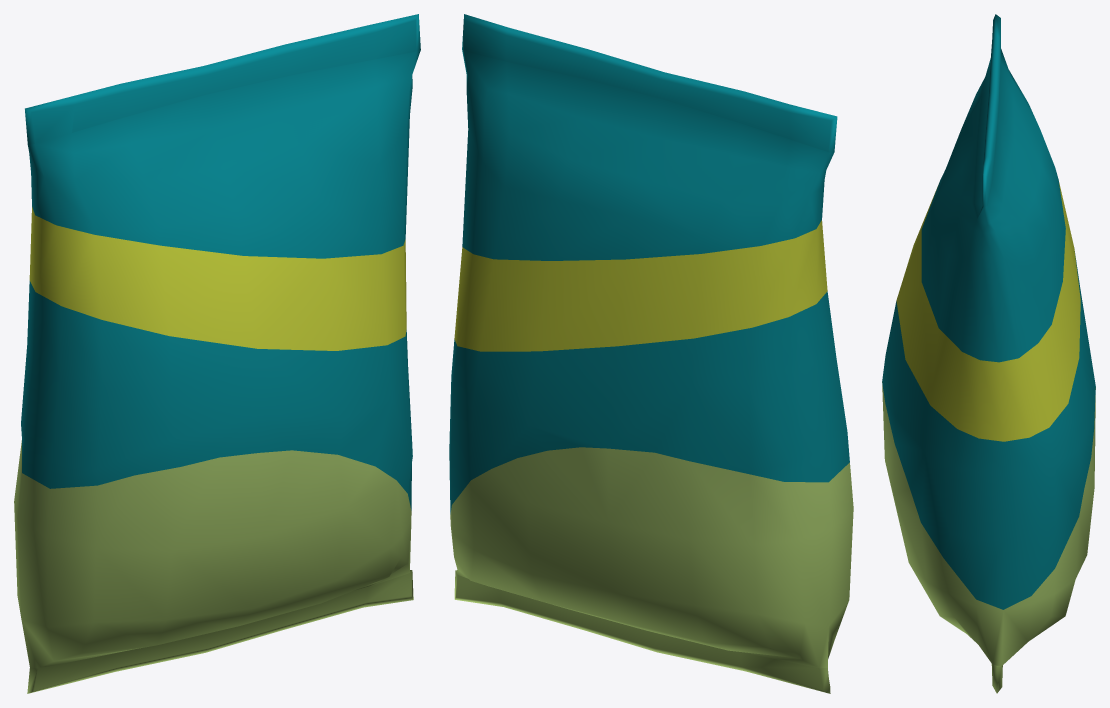
The model's file is chips_007.fbx.
3 views of the same model, side by side, from view 1: azimuth 30°, elevation 25°; view 2: azimuth 150°, elevation 25°; view 3: azimuth 270°, elevation 25° (orthographic). The views are drawn at different scales.
Visible parts, largest first — view 1: chips_007; view 2: chips_007; view 3: chips_007.
Boxes of the visible parts, left/top/right/bottom form: chips_007: left=14, top=14, right=420, bottom=693; chips_007: left=449, top=14, right=853, bottom=693; chips_007: left=882, top=14, right=1095, bottom=693.
Bounding box in the file's own units: 21.61 × 11.72 × 31.47.
